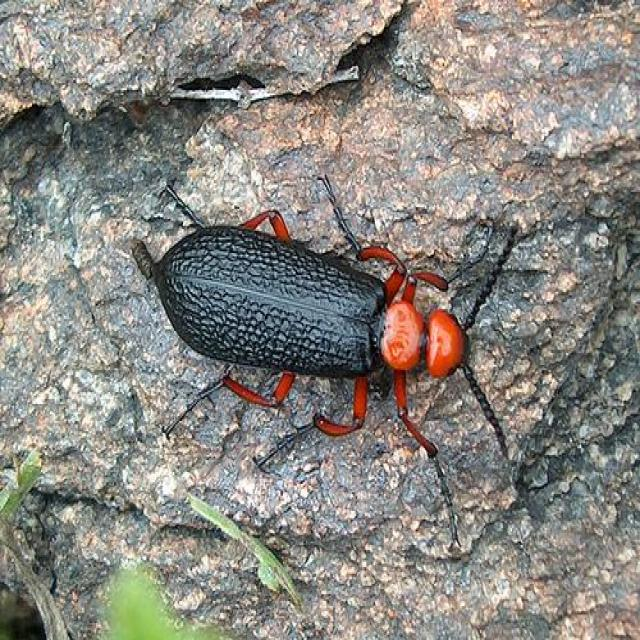BlisterBeetle-Adult-: (127, 164, 543, 511)
